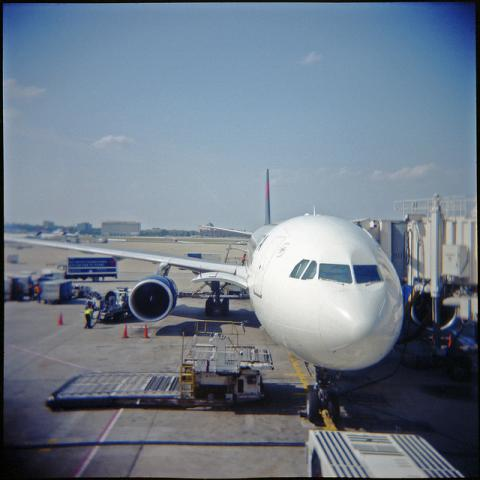truck: (48, 255, 120, 284), (40, 279, 74, 304)
